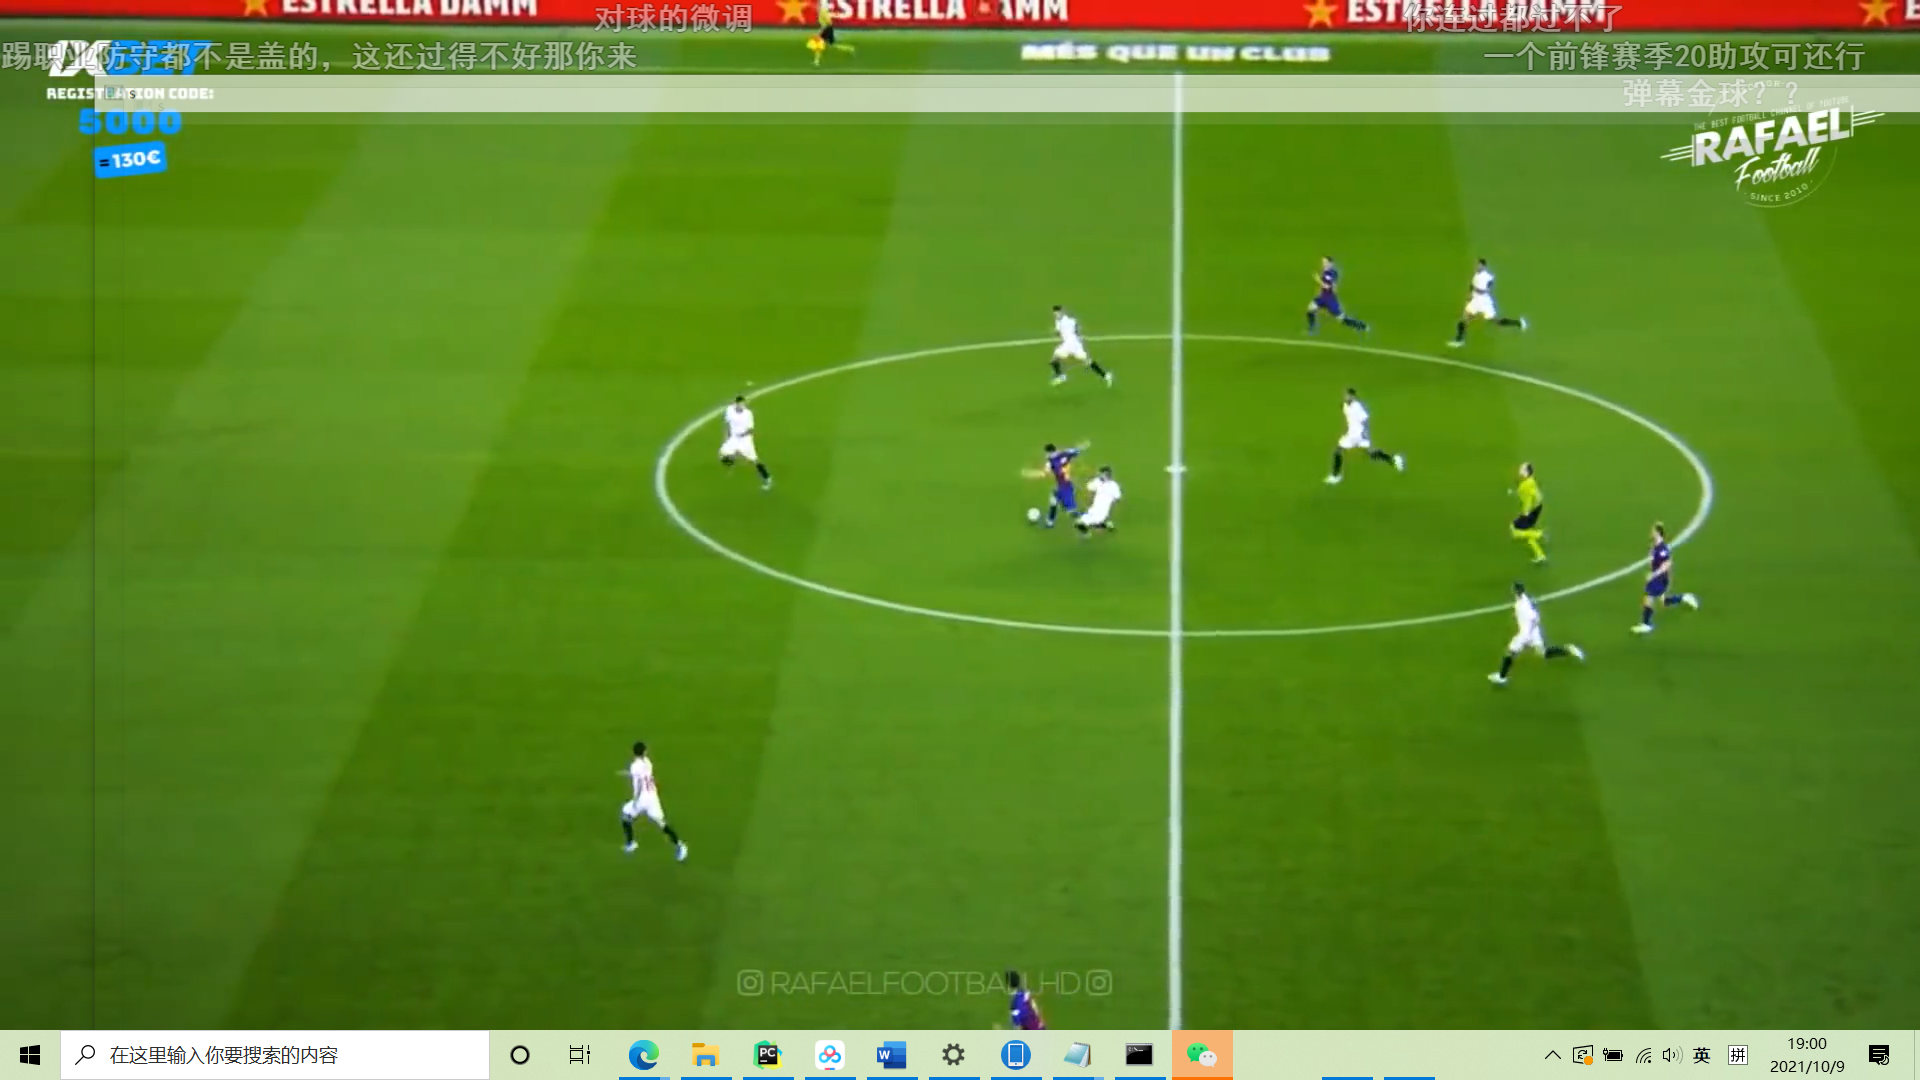ft: (1027, 506, 1042, 524)
